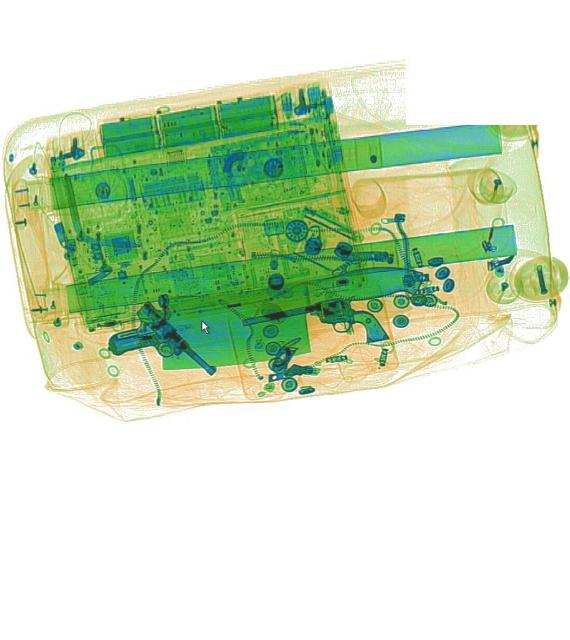Gun: (101, 296, 217, 414), (237, 288, 387, 364)
Knife: (155, 259, 428, 373)
